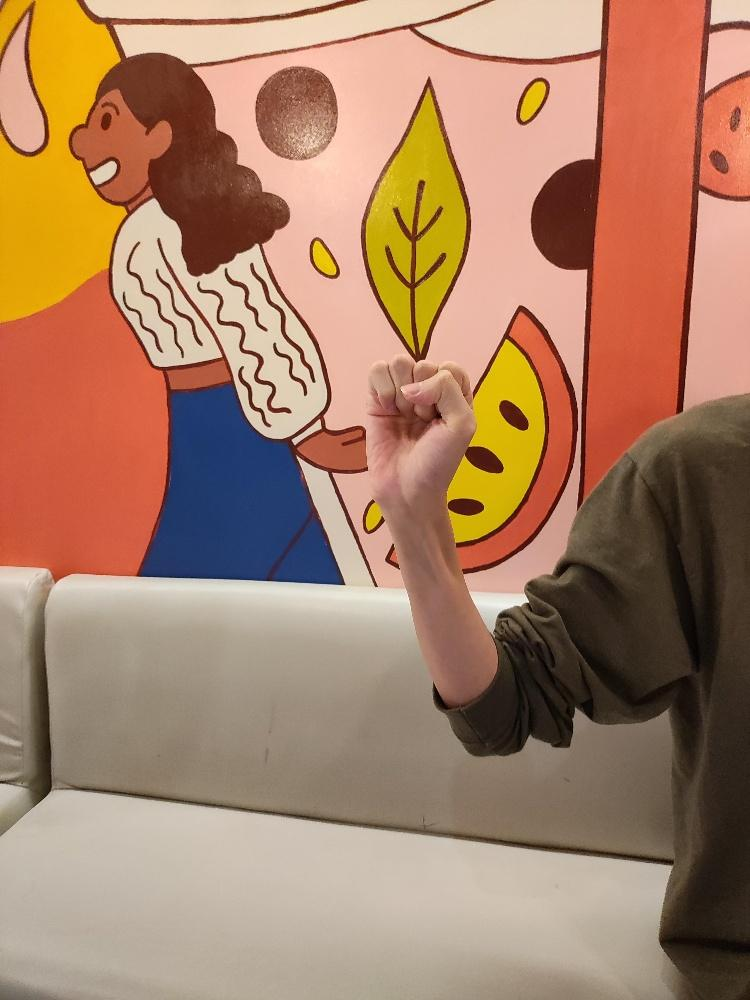s: (362, 350, 479, 510)
